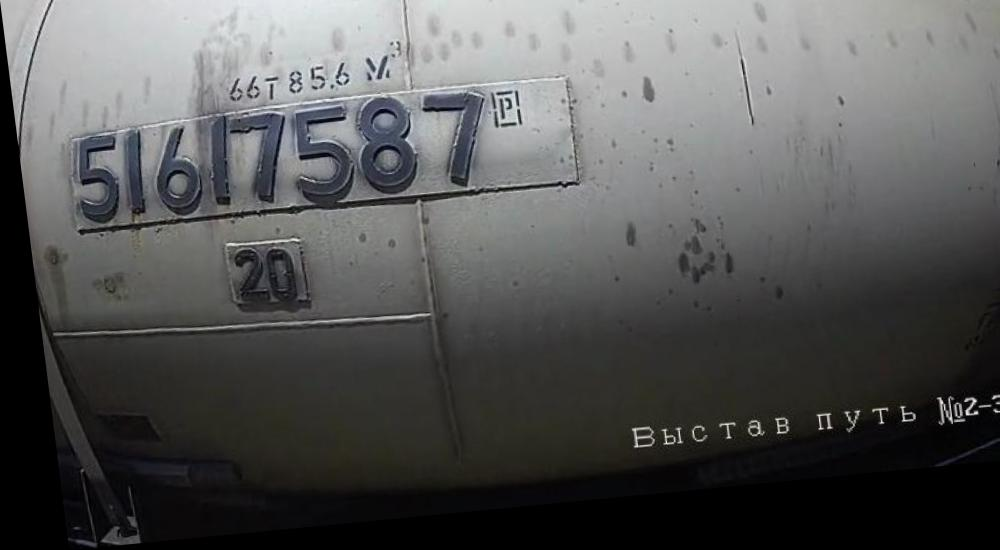Wagon-number: (57, 92, 495, 231)
